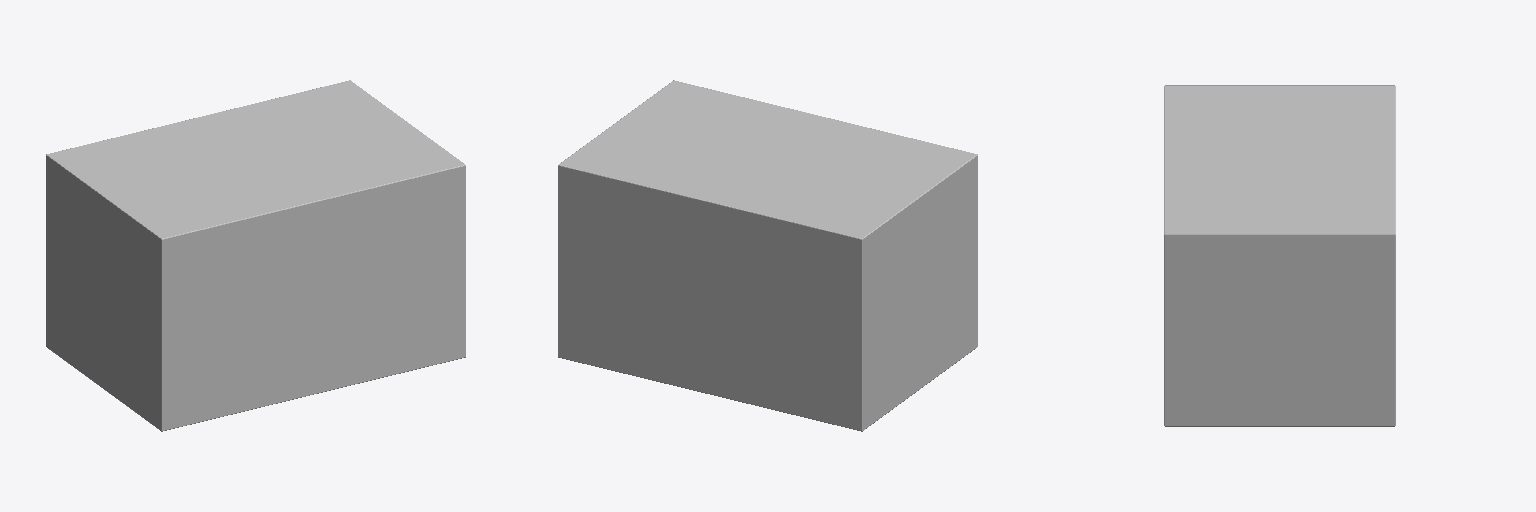
Rendered from table1.obj.
3 views of the same model, side by side, from view 1: azimuth 30°, elevation 25°; view 2: azimuth 150°, elevation 25°; view 3: azimuth 270°, elevation 25° (orthographic).
Parts seen in each view (by area): view 1: tableCounre; view 2: tableCounre; view 3: tableCounre.
Boxes of the visible parts, box(x1,y1,x2,y2) form: tableCounre: box(46, 80, 465, 431); tableCounre: box(558, 80, 977, 431); tableCounre: box(1164, 85, 1395, 426).
Bounding box in the file's own units: 2.03 × 1.23 × 1.34.